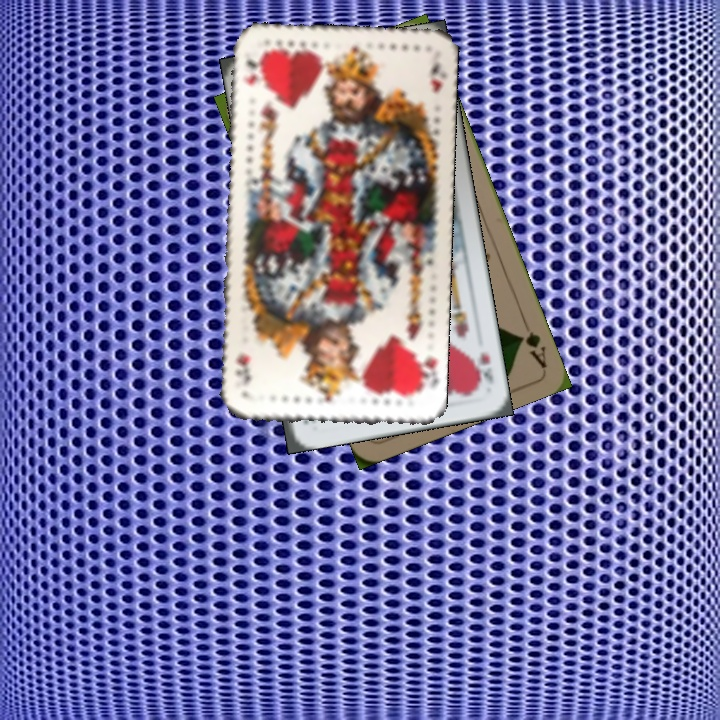GA: (514, 314, 549, 370)
HK: (411, 349, 440, 396), (468, 348, 496, 392), (240, 49, 263, 88)
